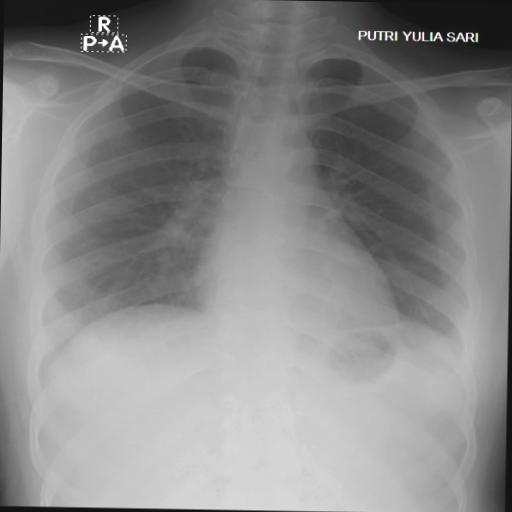normal: (19, 8, 496, 398)
